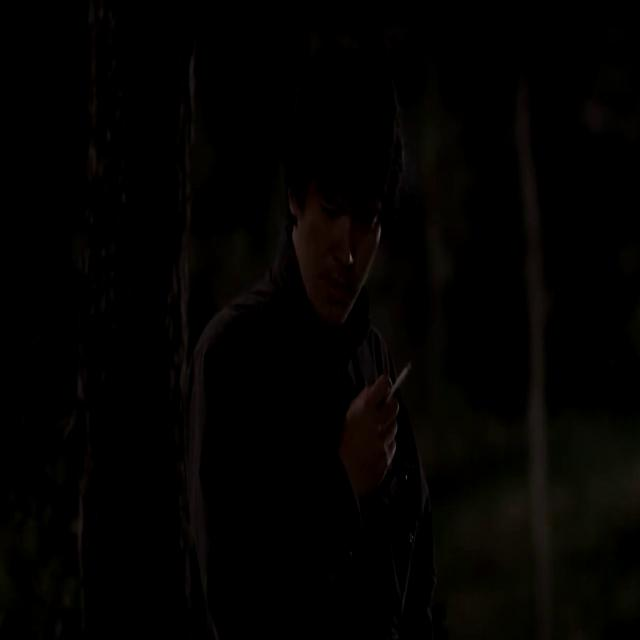Smooking: (389, 342, 415, 408)
